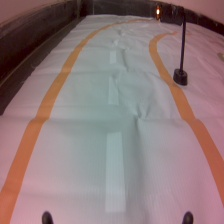yellow: (153, 2, 190, 88)
